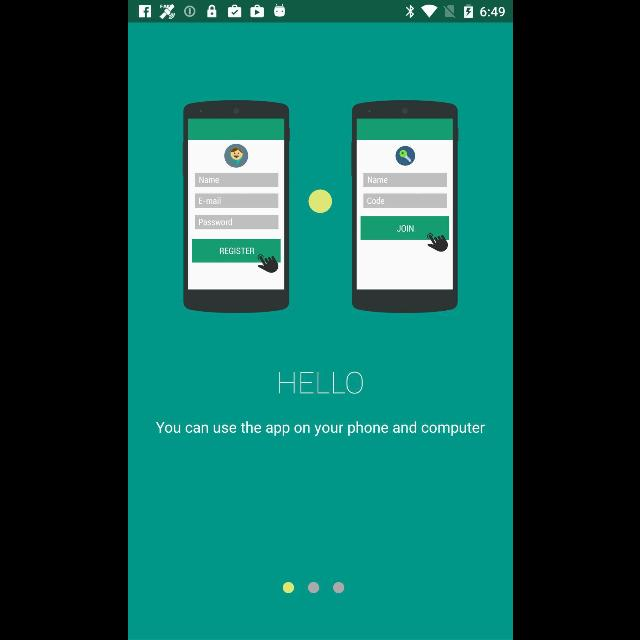image: (182, 100, 290, 314), (350, 100, 458, 314), (308, 189, 332, 213)
pageindicator: (282, 582, 344, 594)
text: (154, 422, 483, 436), (278, 372, 362, 394)
uppertaskbar: (128, 1, 512, 23)
